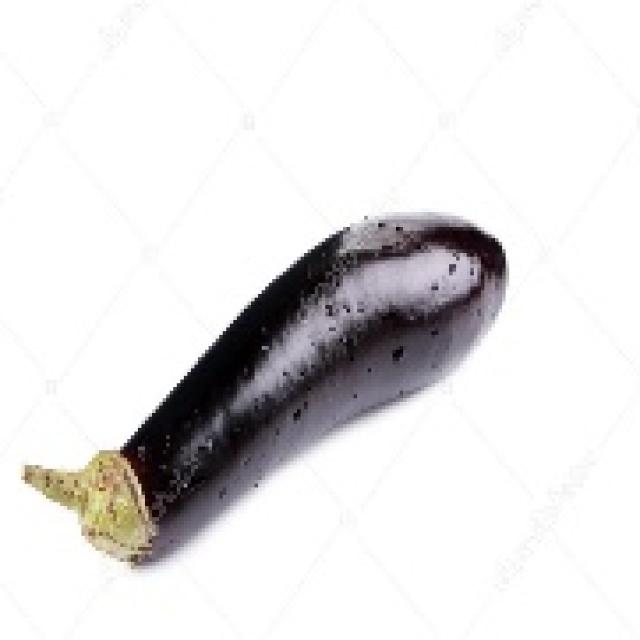eggplant: (99, 212, 506, 573)
